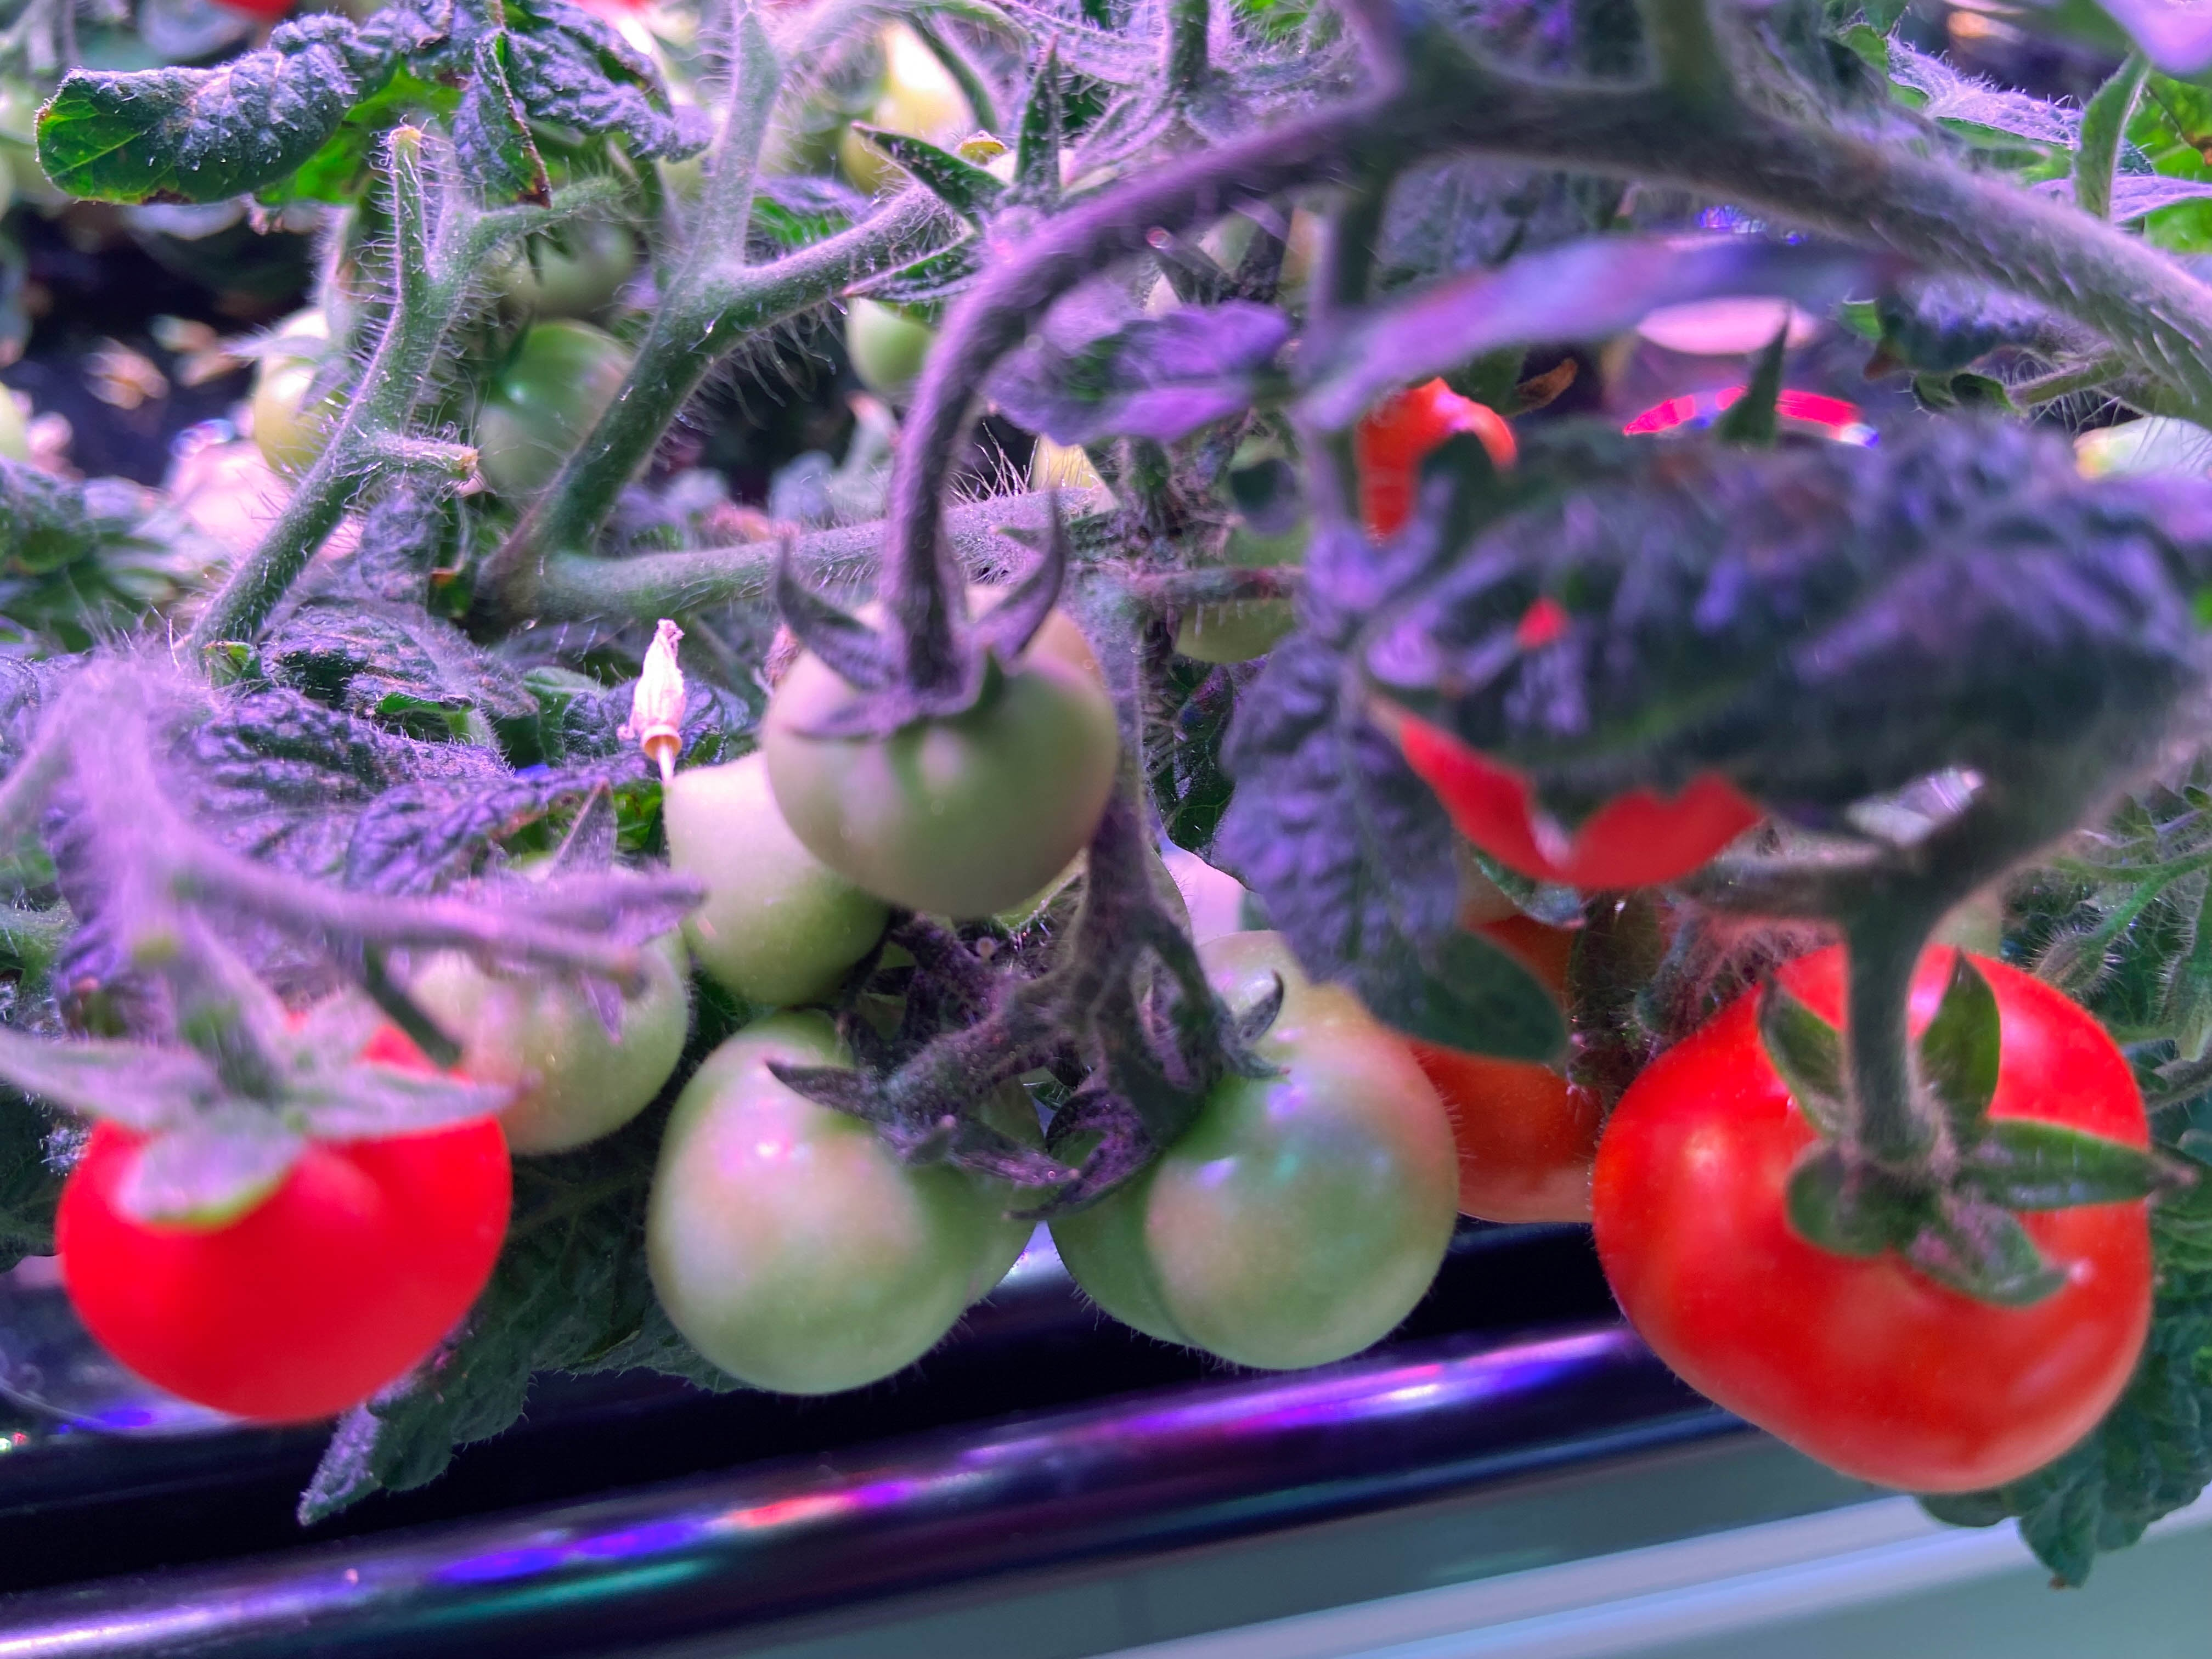green: (1054, 939, 1467, 1380), (759, 582, 1120, 922), (428, 892, 690, 1157), (650, 741, 899, 1002), (477, 319, 653, 505), (833, 19, 977, 176), (247, 319, 368, 479), (507, 202, 641, 314), (843, 282, 953, 404)
red: (1592, 918, 2160, 1490), (52, 1023, 517, 1431), (641, 1006, 1026, 1399), (1357, 870, 1693, 1223), (1386, 598, 1763, 861), (1336, 373, 1515, 535)
